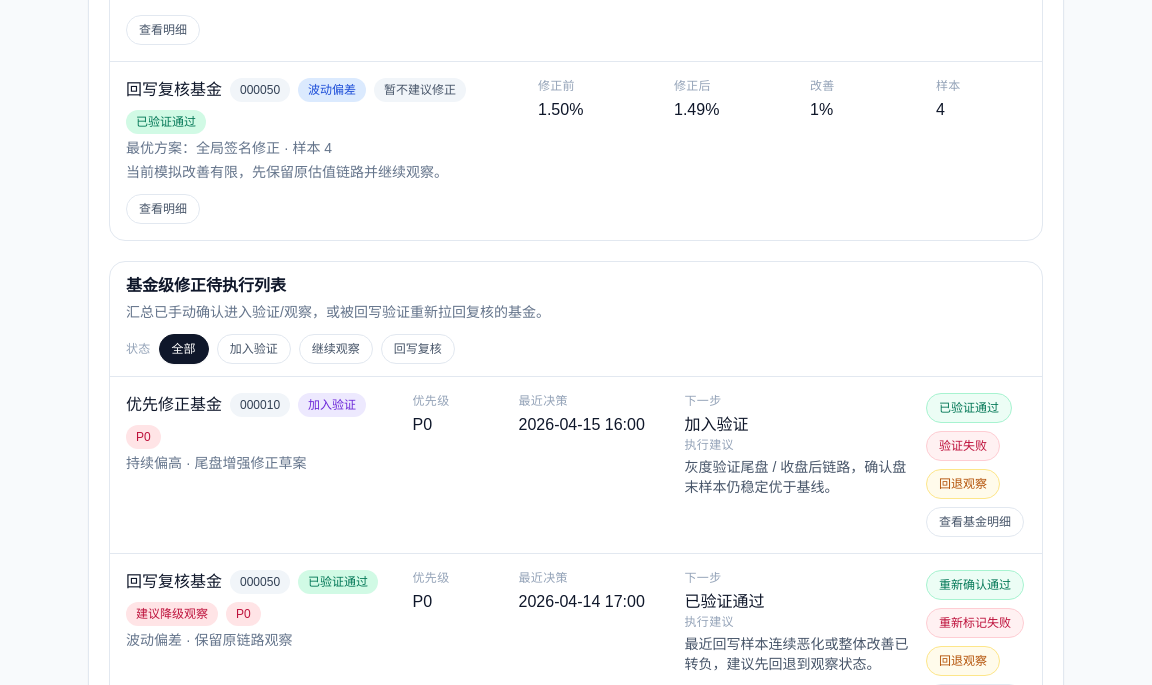
AccuracyDashboard › filters reopened validated funds into a dedicated recheck queue
(page scrolled)
Click the button with test id "accuracy-adjustment-execution-filter-recheck": (418, 349) [381,334,455,364]
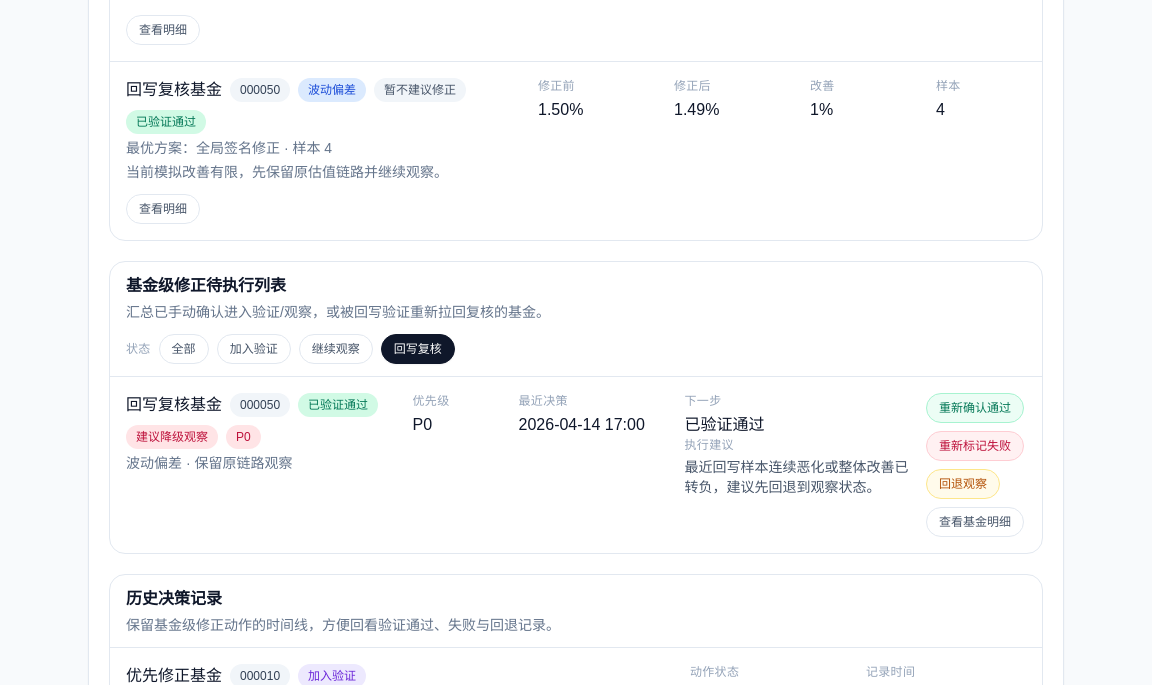
Expected: the text "回写复核基金" in the row of "优先级" is shown, [126,396,222,413]
Result: the number of elements with test id "accuracy-adjustment-decision-row" is 1 at [110,377,1042,553]
